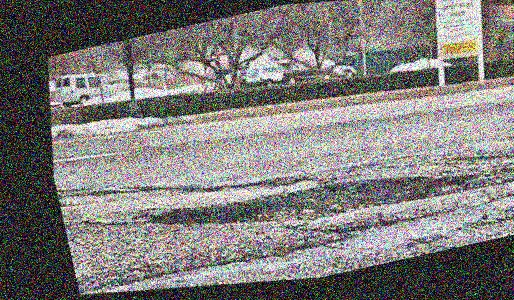pothole: (144, 128, 468, 275)
